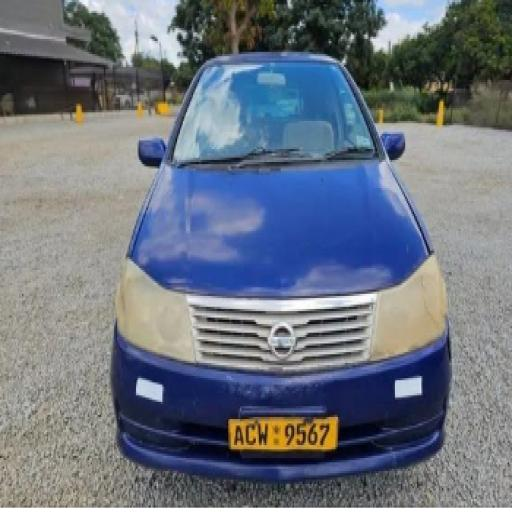number-plates: (231, 417, 337, 449)
